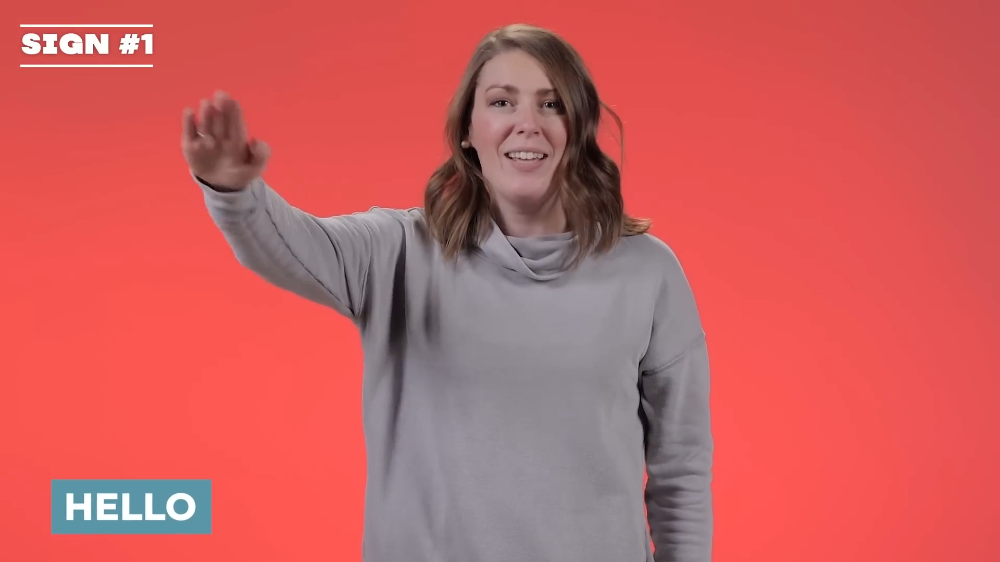hello: (178, 85, 270, 188)
